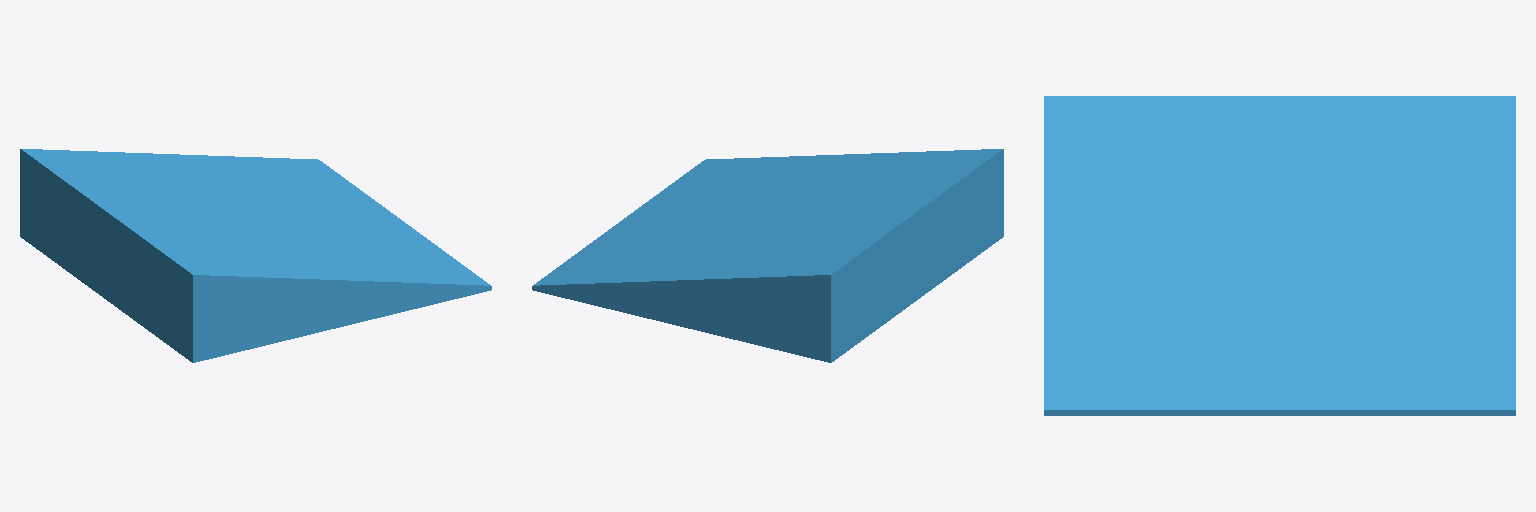
The robot description file, URDF, robot "Y_positive_15_lifted":
<?xml version="1.0" ?>
<robot name="Y_positive_15_lifted">
<!-- Used for fixing robot to Gazebo 'base_link' -->

<link name="world"/>

  <joint name="fixed" type="fixed">
    <parent link="world"/>
    <child link="Y_positive_15_lifted__link"/>
  </joint>

  <link name="Y_positive_15_lifted__link">
    <inertial>
      <mass value="10"/>
      <inertia ixx="1.0" ixy="0.0" ixz="0.0" iyy="1.0" iyz="0.0" izz="1.0"/>
    </inertial>
    <collision>
      <geometry>
         <mesh filename="package://pal_gazebo_worlds/models/Y_positive_15_lifted/meshes/15_degree_slope_lifted.stl" scale="0.00999 0.00999 0.00999"/>
      </geometry>
      <surface>
        <friction>
          <ode>
            <mu1 value="1.0" />
            <mu2 value="1.0" />
            <kp  value="1e5" />
            <kd  value="1e2" />
            <maxVel  value="100.0" />
            <minDepth  value="0.0" />
            <dampingFactor>0.01</dampingFactor>
          </ode>
        </friction>
      </surface>
    </collision>
    <visual>
      <geometry>
        <mesh filename="package://pal_gazebo_worlds/models/Y_positive_15_lifted/meshes/15_degree_slope_lifted.stl" scale="0.00999 0.00999 0.00999"/>
      </geometry>
      <material name="white">
      </material>
    </visual>
  </link>



</robot>

--- Render facts (derived) ---
The picture shows the robot from 3 angles, left to right: view 1: azimuth 30°, elevation 25°; view 2: azimuth 150°, elevation 25°; view 3: azimuth 270°, elevation 25°; orthographic projection.
Robot: Y_positive_15_lifted — 2 links, 1 joints (1 fixed); root link world; default pose: all joints at 0.
Links seen in each view (by area): view 1: Y_positive_15_lifted__link; view 2: Y_positive_15_lifted__link; view 3: Y_positive_15_lifted__link.
Link boxes in pixels (left/top/right/bottom): Y_positive_15_lifted__link: left=20, top=149, right=491, bottom=362; Y_positive_15_lifted__link: left=532, top=149, right=1003, bottom=362; Y_positive_15_lifted__link: left=1044, top=96, right=1515, bottom=415.
Bounding box of the posed robot: 0.3996 × 0.3996 × 0.1131 m (x, y, z).
Meshes: 1 distinct files referenced, 1 mesh visuals loaded (1 binary STL).